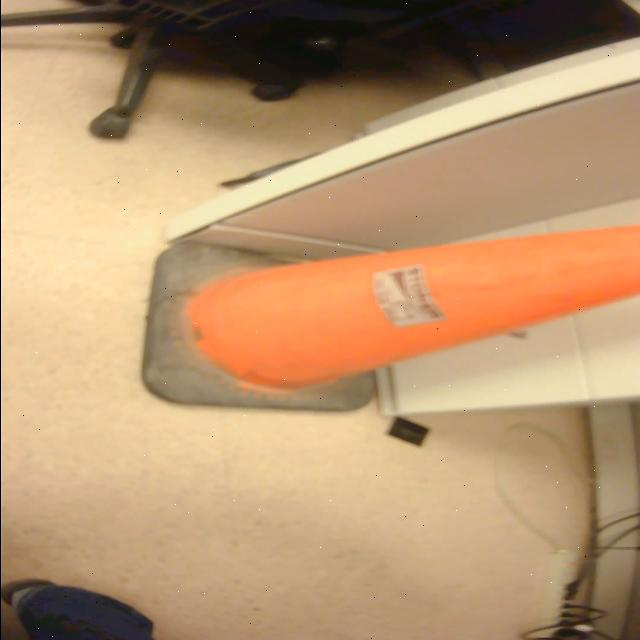traffic cone: (131, 217, 640, 429)
